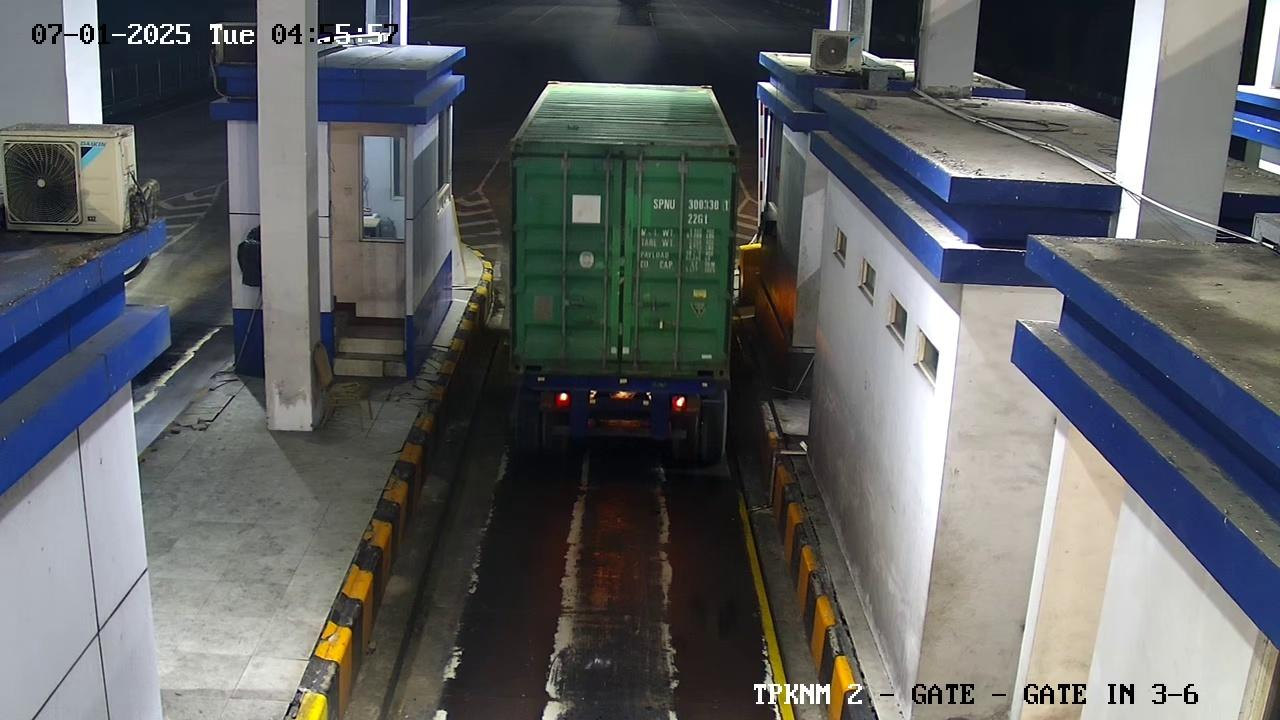Container_ID: (638, 194, 743, 212)
